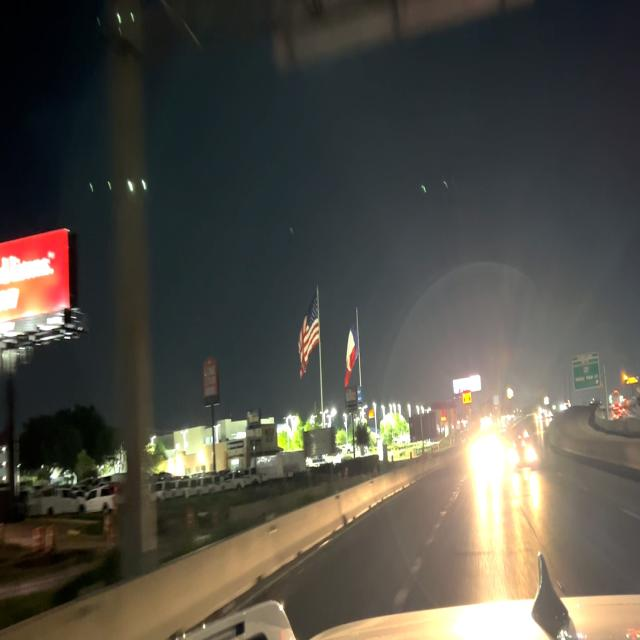back-of-sign: (267, 0, 544, 82)
